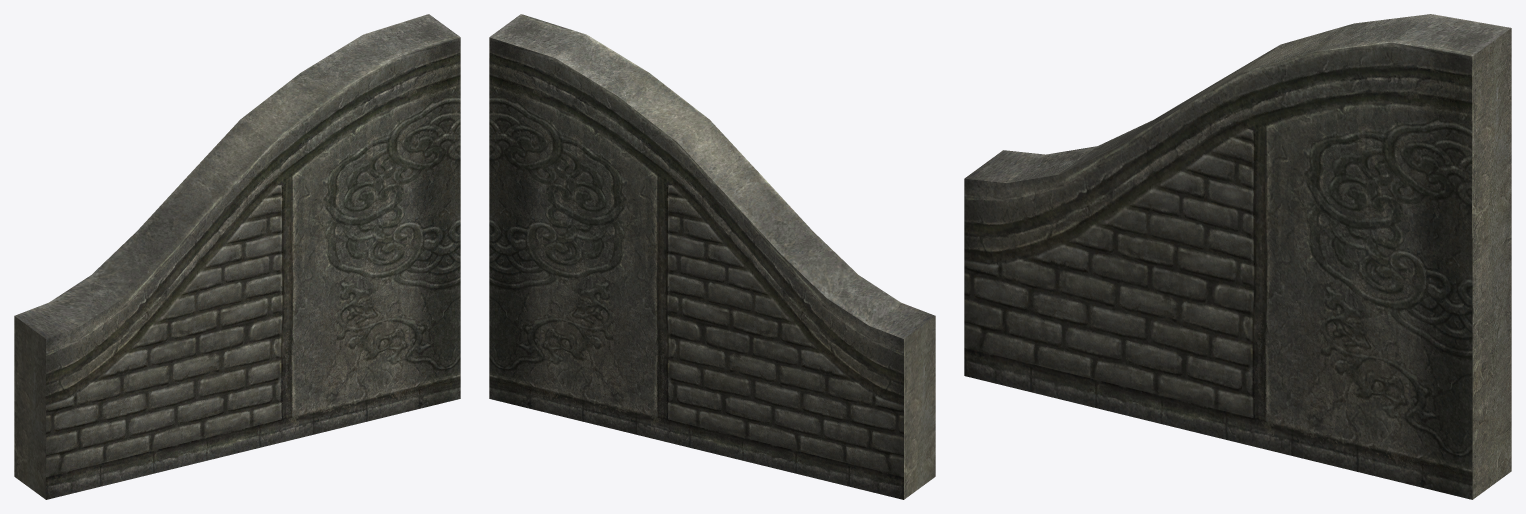
The model's file is dawnmist_wall00.glb.
3 views of the same model, side by side, from view 1: azimuth 30°, elevation 25°; view 2: azimuth 150°, elevation 25°; view 3: azimuth 330°, elevation 25° (orthographic). The views are drawn at different scales.
Parts seen in each view (by area): view 1: DawnMist_wall00; view 2: DawnMist_wall00; view 3: DawnMist_wall00.
Part boxes in pixels (box(x1,y1,x2,y2)): DawnMist_wall00: box(14, 14, 460, 499); DawnMist_wall00: box(489, 14, 935, 499); DawnMist_wall00: box(964, 14, 1511, 499).
Bounding box in the file's own units: 7.83 × 6.53 × 1.04.
1 material, 1 textured.
